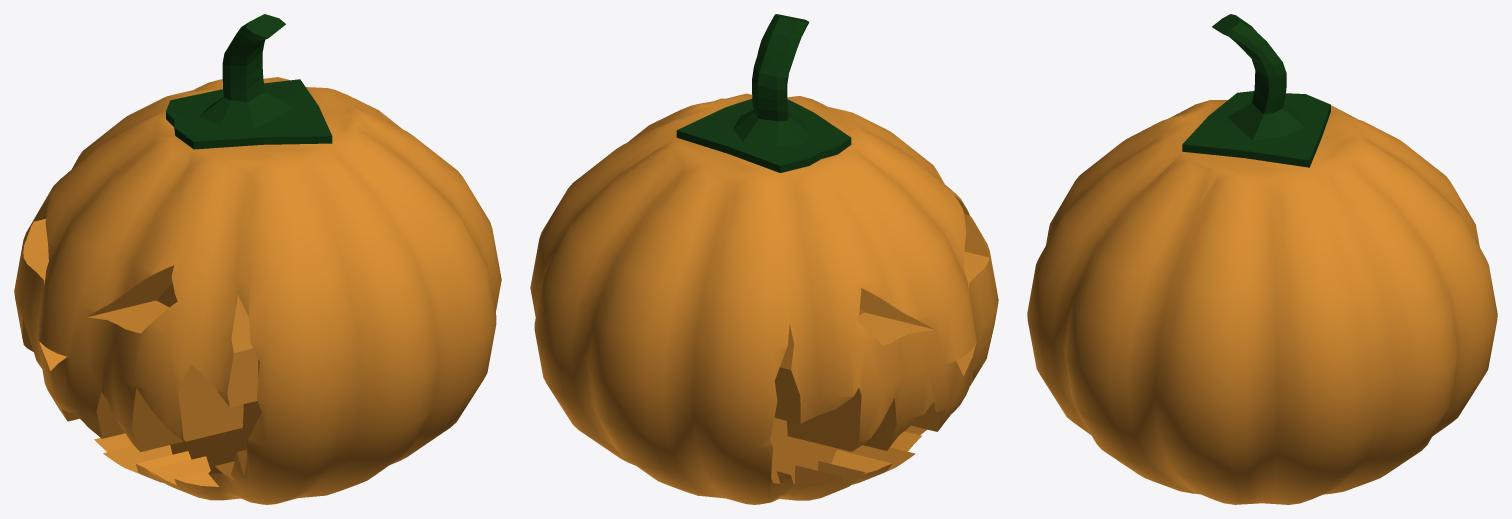
The model's file is Pumkin.FBX.
3 views of the same model, side by side, from view 1: azimuth 30°, elevation 25°; view 2: azimuth 150°, elevation 25°; view 3: azimuth 270°, elevation 25° (orthographic). The views are drawn at different scales.
Parts seen in each view (by area): view 1: Pumkin1; view 2: Pumkin1; view 3: Pumkin1.
Boxes of the visible parts, left/top/right/bottom form: Pumkin1: left=14, top=14, right=501, bottom=504; Pumkin1: left=530, top=14, right=998, bottom=504; Pumkin1: left=1027, top=14, right=1497, bottom=504.
Bounding box in the file's own units: 514 × 536 × 517.
